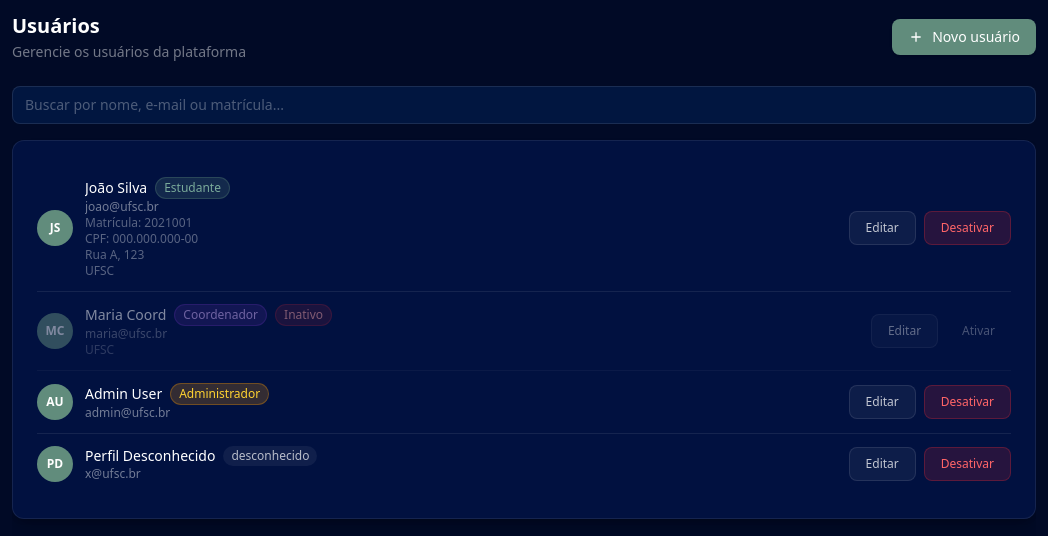
Usuarios — busca › filtra por nome
expect the text "João Silva" is shown: met, box [85,178,147,198]
Step 1. Type "Maria" into the field with placeholder "Buscar por nome, e-mail ou matrícula..." → x=524, y=105, box [12,86,1036,124]
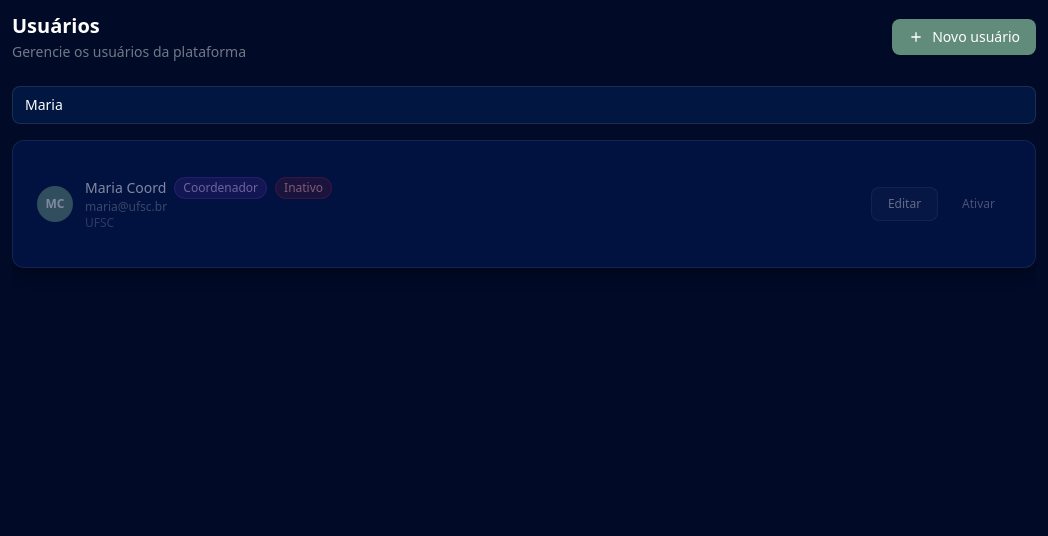
expect the text "Maria Coord" is shown: met, box [85,178,166,198]
expect the text "João Silva" is gone: met
